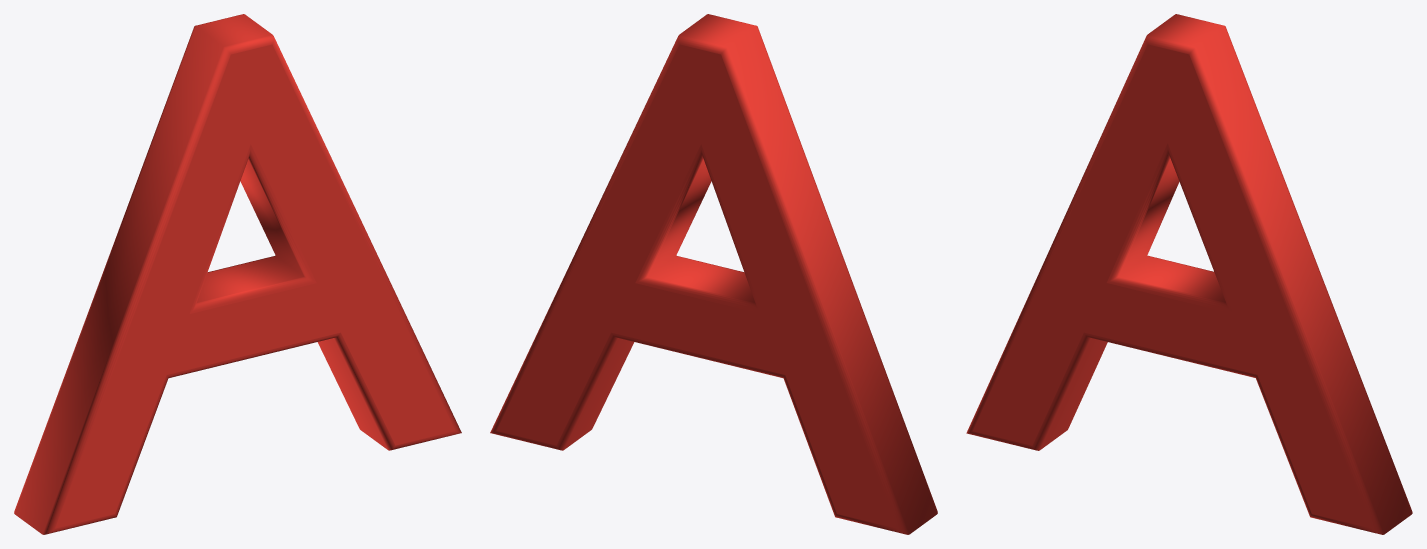
3 views of the same model, side by side, from view 1: azimuth 30°, elevation 25°; view 2: azimuth 150°, elevation 25°; view 3: azimuth 330°, elevation 25° (orthographic).
Visible parts, largest first — view 1: Text; view 2: Text; view 3: Text.
Part boxes in pixels (x1,y1,x2,y2): Text: (14, 14, 461, 534); Text: (490, 14, 937, 534); Text: (966, 14, 1412, 534).
Bounding box in the file's own units: 1.78 × 1.8 × 0.2551.
